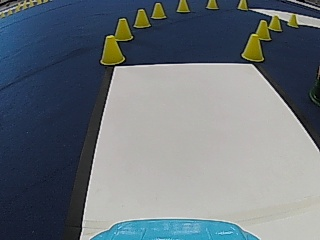cone: (100, 35, 125, 64), (241, 32, 265, 62), (114, 17, 133, 41), (133, 8, 150, 28), (255, 20, 271, 40), (151, 2, 166, 19), (268, 15, 282, 31), (176, 0, 190, 13), (287, 13, 298, 27), (237, 0, 248, 11), (206, 0, 218, 10)
